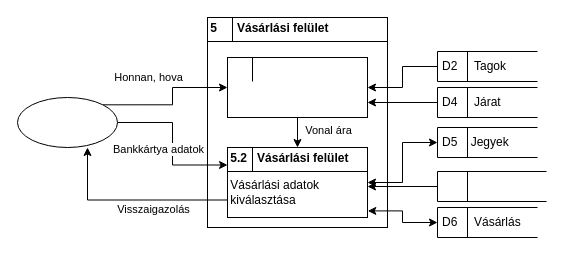
The diagram is 564 pixels wide and 255 high, and some of its shapes have lost their labels. The shapes that lost their labels are listed below. From the top down, each one's centre as x and y in pixels, then its label:
At (x=297, y=87): "5.1 Vásárlási felület Adatok kiválasztása".
At (x=67, y=122): "Tag".
At (x=491, y=186): "D8 Kedvezmény".
